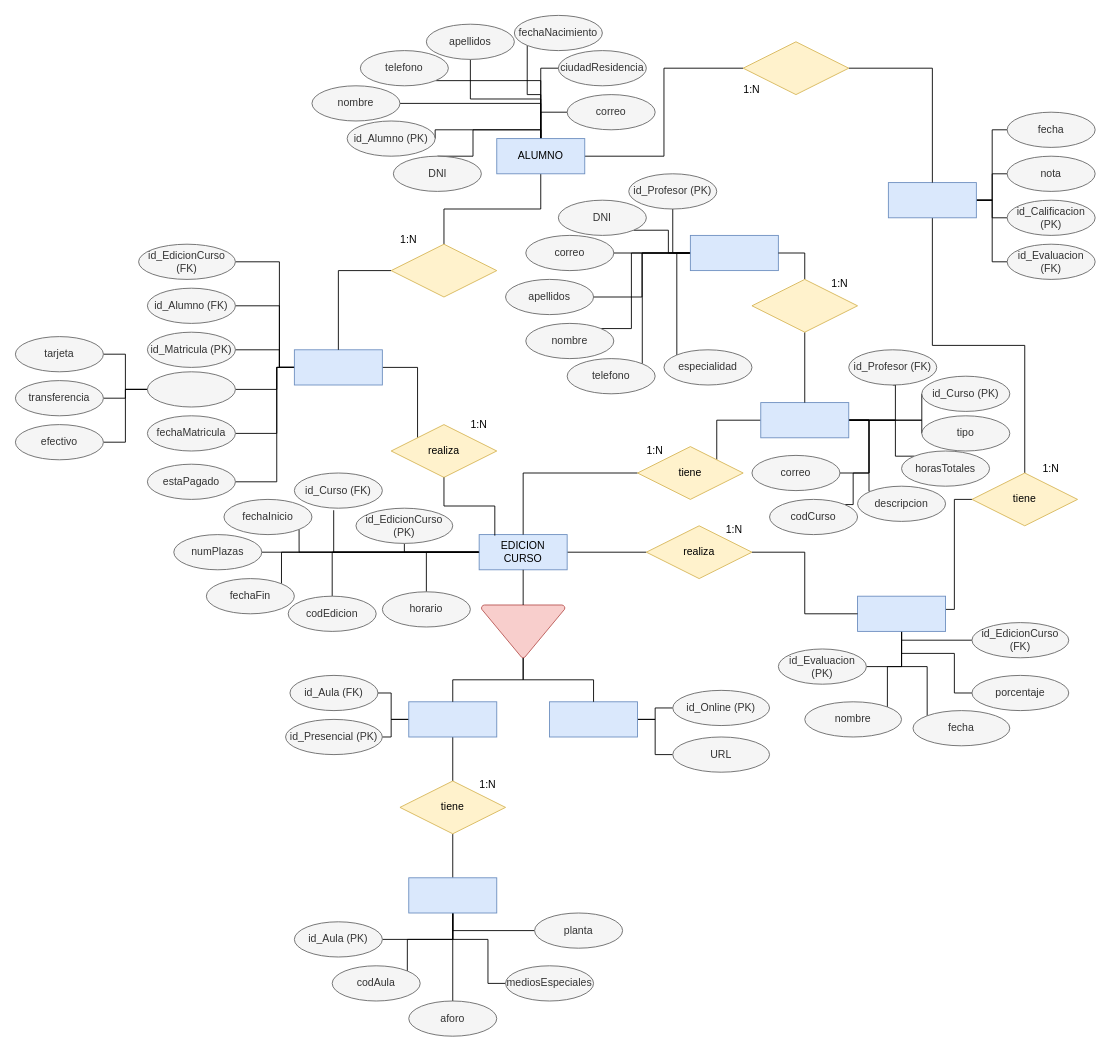
This 1111x1052 diagram has some shape labels left out. The shapes that lost their labels are listed below. From the top down, each one's box as (x1, y1, x2, y2) in pixels, then its label:
(742, 41, 849, 95): lleva
(887, 182, 976, 218): CALIFICACION
(390, 243, 497, 297): matricula_alumno
(689, 235, 778, 271): PROFESOR
(751, 279, 858, 332): imparte
(293, 349, 382, 385): MATRICULA
(147, 371, 235, 407): formaPago
(760, 402, 849, 438): CURSO
(480, 604, 565, 658): es
(857, 595, 946, 631): EVALUACION
(408, 701, 497, 737): PRESENCIAL
(549, 701, 638, 737): ONLINE
(408, 877, 497, 913): AULA
